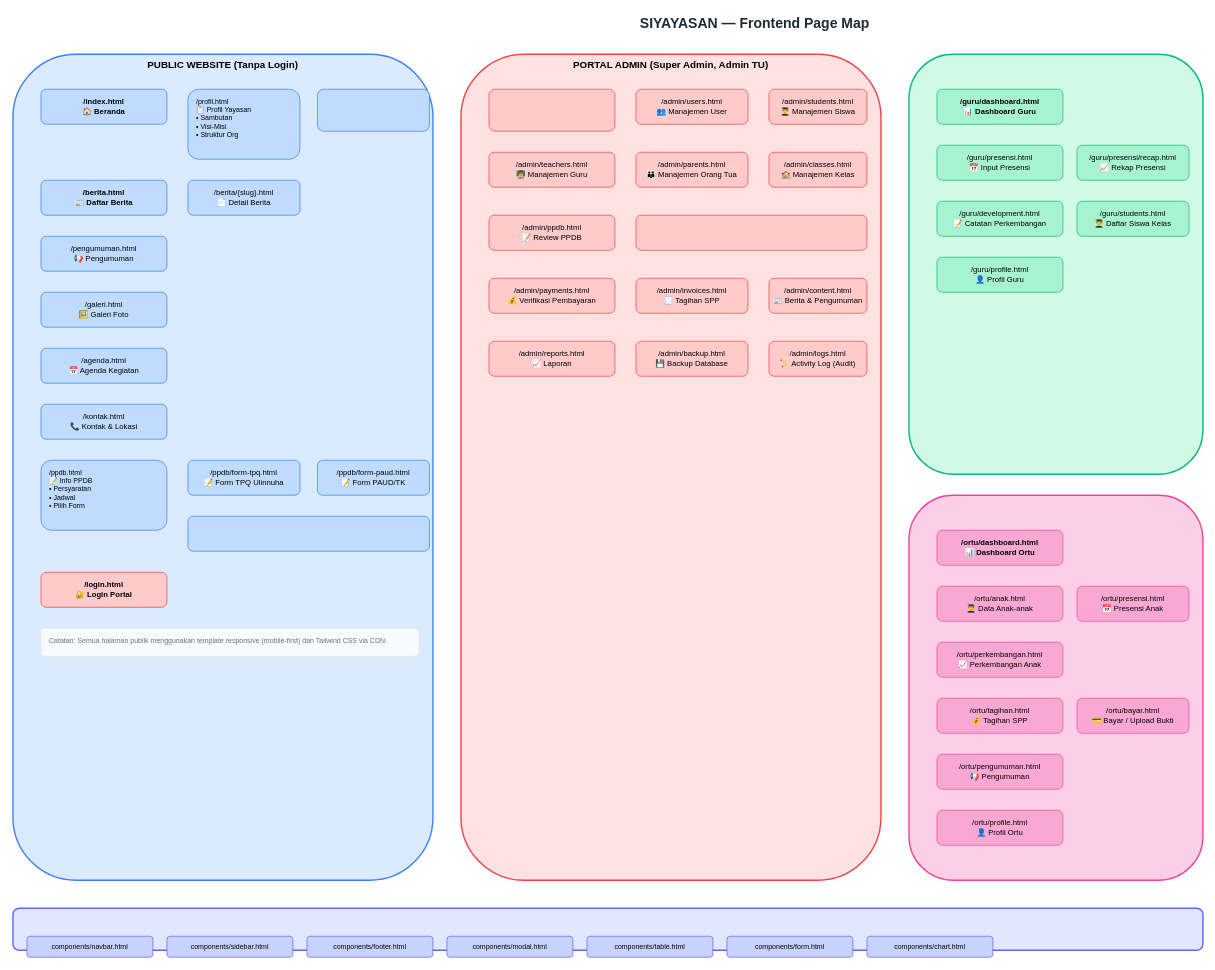
This 1215x970 diagram has some shape labels left out. The box of each missing label's shape, as (x1, y1, x2, y2) in pixels:
/admin/dashboard.html 📊 Dashboard Admin (statistik global): (488, 89, 615, 131)
/admin/ppdb/{id}.html 🔍 Detail Pendaftaran: (635, 215, 867, 250)
/ppdb/status.html 🔍 Cek Status Pendaftaran: (187, 516, 429, 551)
/profil/sekolah.html 🏫 Program & Fasilitas: (317, 89, 429, 131)
PORTAL GURU: (908, 53, 1203, 475)
PORTAL ORANG TUA: (908, 494, 1203, 881)
SHARED COMPONENTS: (12, 907, 1203, 951)
